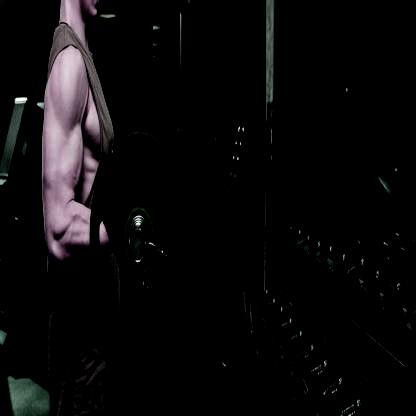Barbell: (126, 224, 146, 268)
